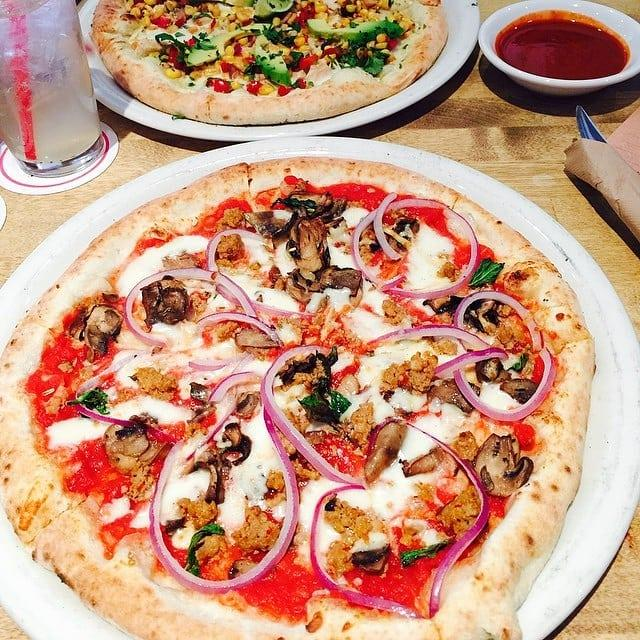basil: (294, 372, 354, 427), (184, 524, 225, 576), (466, 249, 506, 292), (399, 537, 450, 568), (64, 388, 109, 413), (272, 191, 317, 215), (508, 347, 528, 375)
mushrooms: (470, 432, 535, 502), (281, 262, 365, 307), (97, 418, 160, 474), (69, 296, 124, 358), (179, 449, 234, 508), (283, 215, 335, 274), (214, 418, 254, 469), (430, 377, 481, 413), (346, 540, 394, 577), (227, 322, 279, 355), (461, 298, 502, 336), (420, 293, 464, 323), (497, 374, 539, 405), (471, 355, 514, 385), (229, 386, 263, 422), (389, 216, 419, 248), (225, 557, 258, 580)
pizza: (0, 152, 599, 639), (89, 0, 451, 128)
